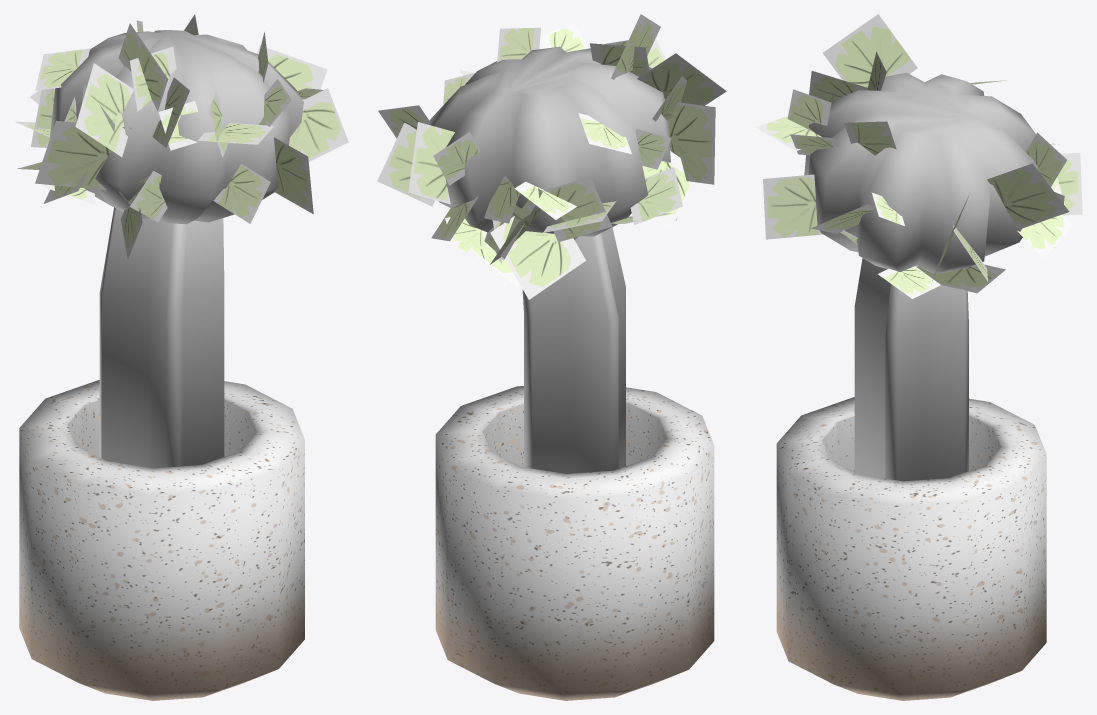
Rendered from Cactus 2.fbx.
3 renders of one model, left to right at view 1: azimuth 30°, elevation 25°; view 2: azimuth 150°, elevation 25°; view 3: azimuth 270°, elevation 25°, orthographic. The views are drawn at different scales.
Visible parts, largest first — view 1: Cactus 2; view 2: Cactus 2; view 3: Cactus 2.
Boxes of the visible parts, x1=… form: Cactus 2: x1=15, y1=14, x2=348, y2=700; Cactus 2: x1=377, y1=14, x2=726, y2=700; Cactus 2: x1=755, y1=14, x2=1082, y2=700.
Size of the model in its own units: 15.96 by 31.68 by 15.04.
